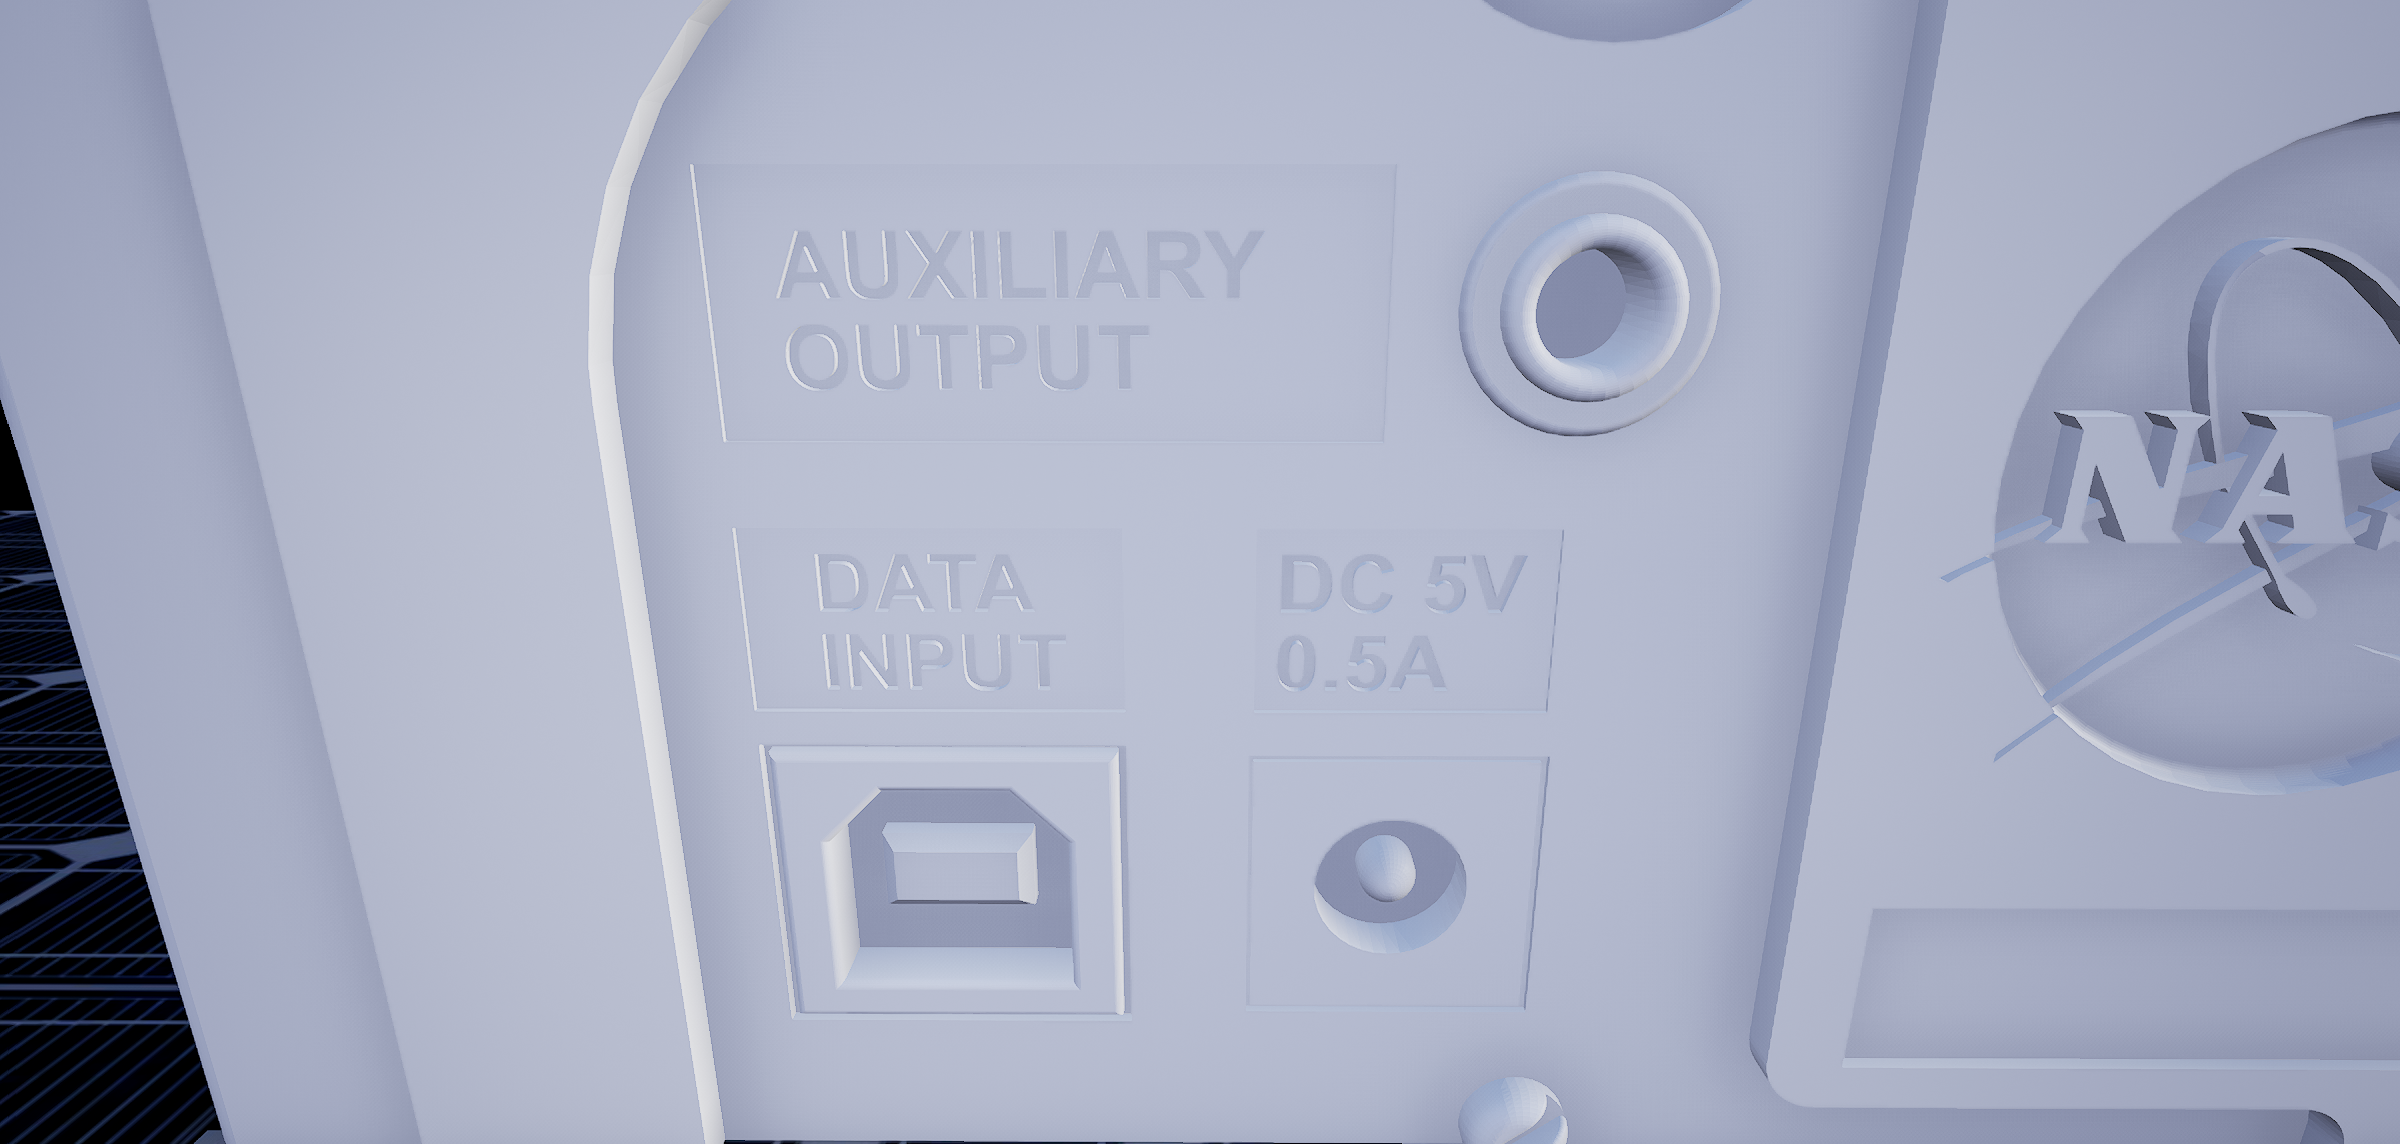aux: (1446, 158, 1742, 459)
dc: (1296, 799, 1491, 979)
usb: (810, 767, 1094, 1009)
